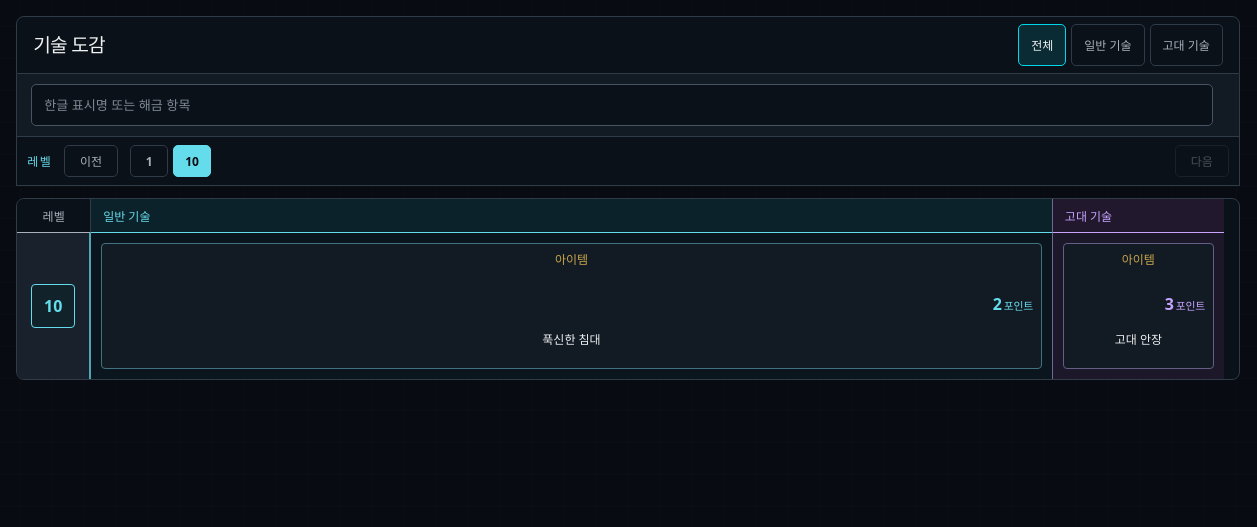
Test: TechnologyBoard › searches by unlock name and opens a labeled inspector
This screenshot has width=1257, height=527.
In the search field: (622, 105) top-left (31, 84), bottom-right (1213, 126), type "고대 안장 해금품"
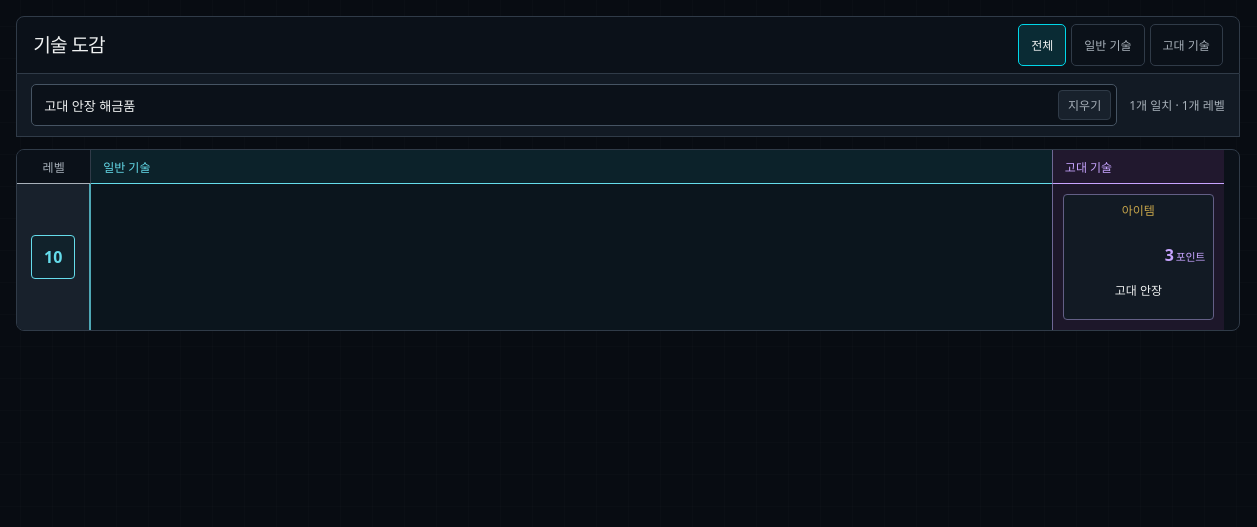
Click the button with aria-label "고대 안장, 레벨 10": (1138, 257) top-left (1063, 194), bottom-right (1214, 320)
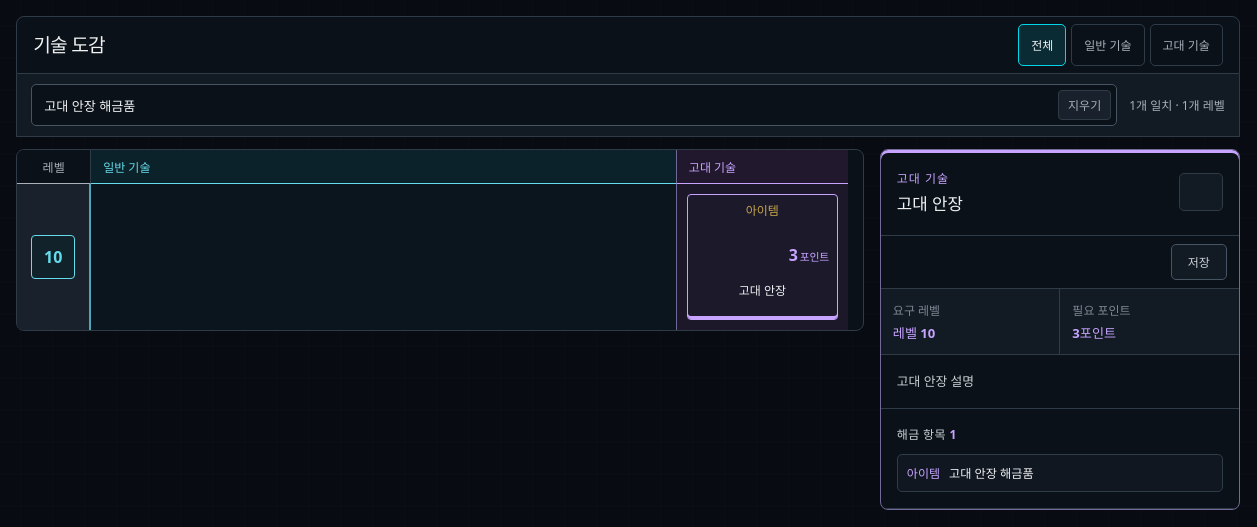
Expected: the element named "선택한 기술 상세" is shown, top-left (880, 149), bottom-right (1240, 510)
Expected: the number of headings "해금 항목 1" is 1, top-left (897, 426), bottom-right (957, 443)
